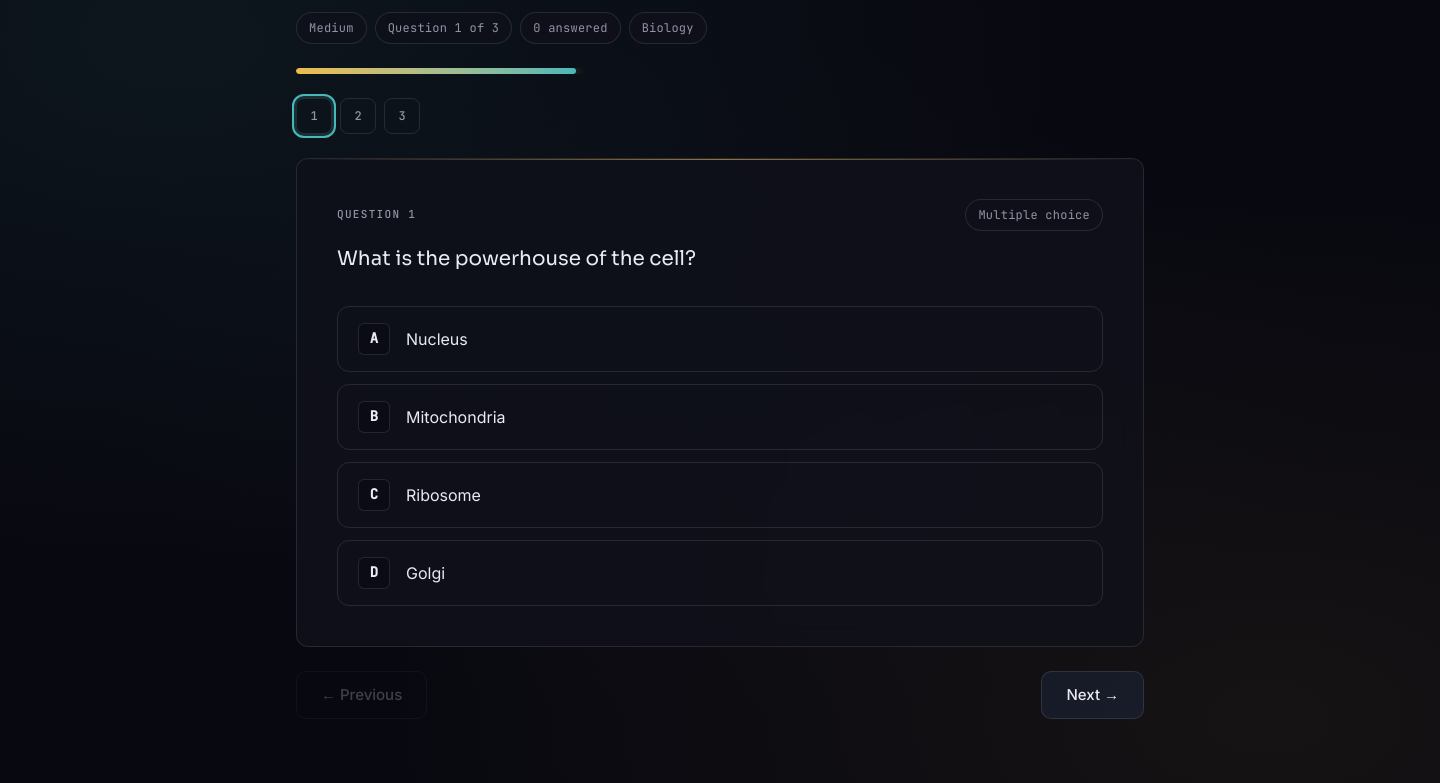
Test: TakeTest › navigates to next question on Next click
(page scrolled)
Expected: the text "Question 1 of 3" is shown, 375,12 -> 512,44
Click the button "Next →" at (1093, 695), box 1041,670 -> 1144,719
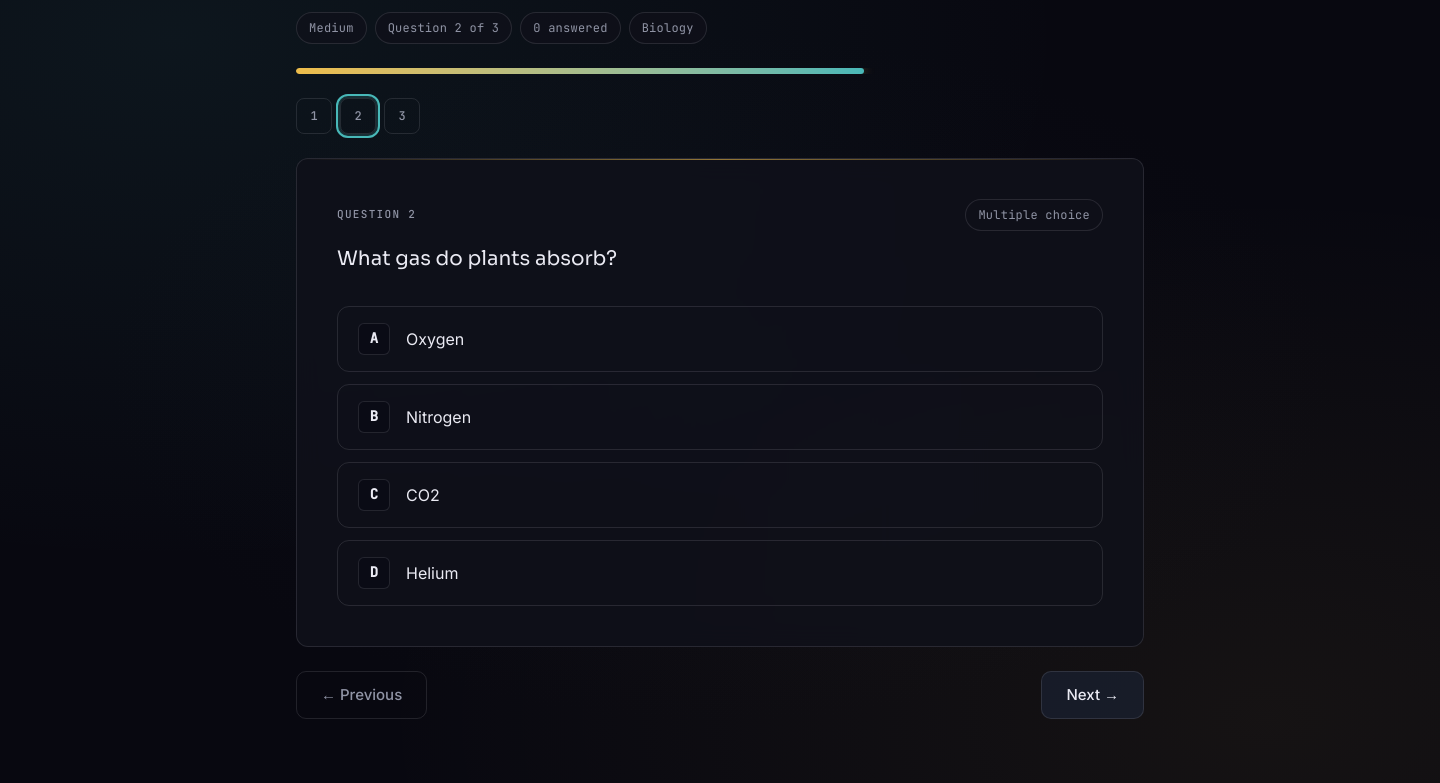
Expected: the text "Question 2 of 3" is shown, 375,12 -> 512,44
